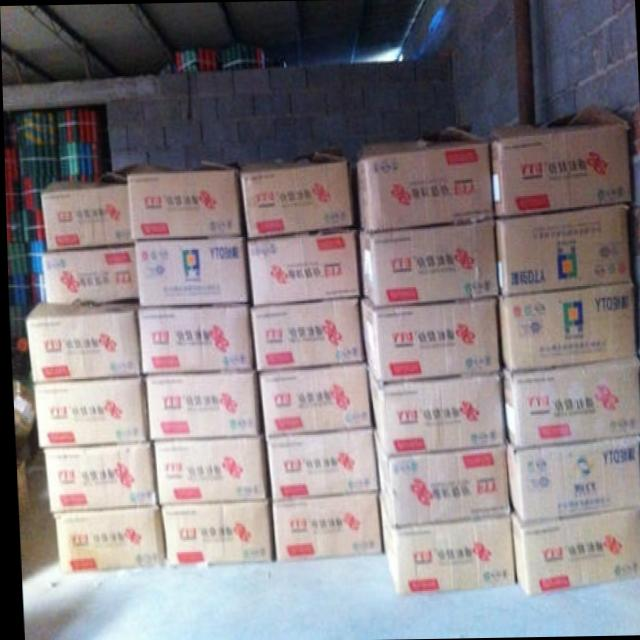box: (490, 103, 632, 217), (355, 125, 492, 231), (370, 425, 507, 524), (375, 493, 512, 591), (499, 357, 640, 448), (493, 206, 629, 296), (496, 283, 635, 371), (365, 367, 504, 454), (504, 434, 640, 520), (359, 220, 495, 306), (358, 296, 497, 380), (508, 507, 640, 594), (23, 300, 139, 383), (240, 153, 351, 238), (125, 162, 241, 238), (245, 228, 357, 305), (249, 296, 362, 372), (256, 363, 368, 439), (31, 376, 146, 448), (136, 303, 251, 374), (143, 370, 260, 439), (40, 441, 153, 511), (262, 428, 373, 499), (151, 435, 266, 502), (134, 238, 248, 305), (269, 492, 379, 560), (157, 500, 270, 566), (50, 506, 160, 573), (39, 180, 130, 252), (39, 244, 136, 302)
